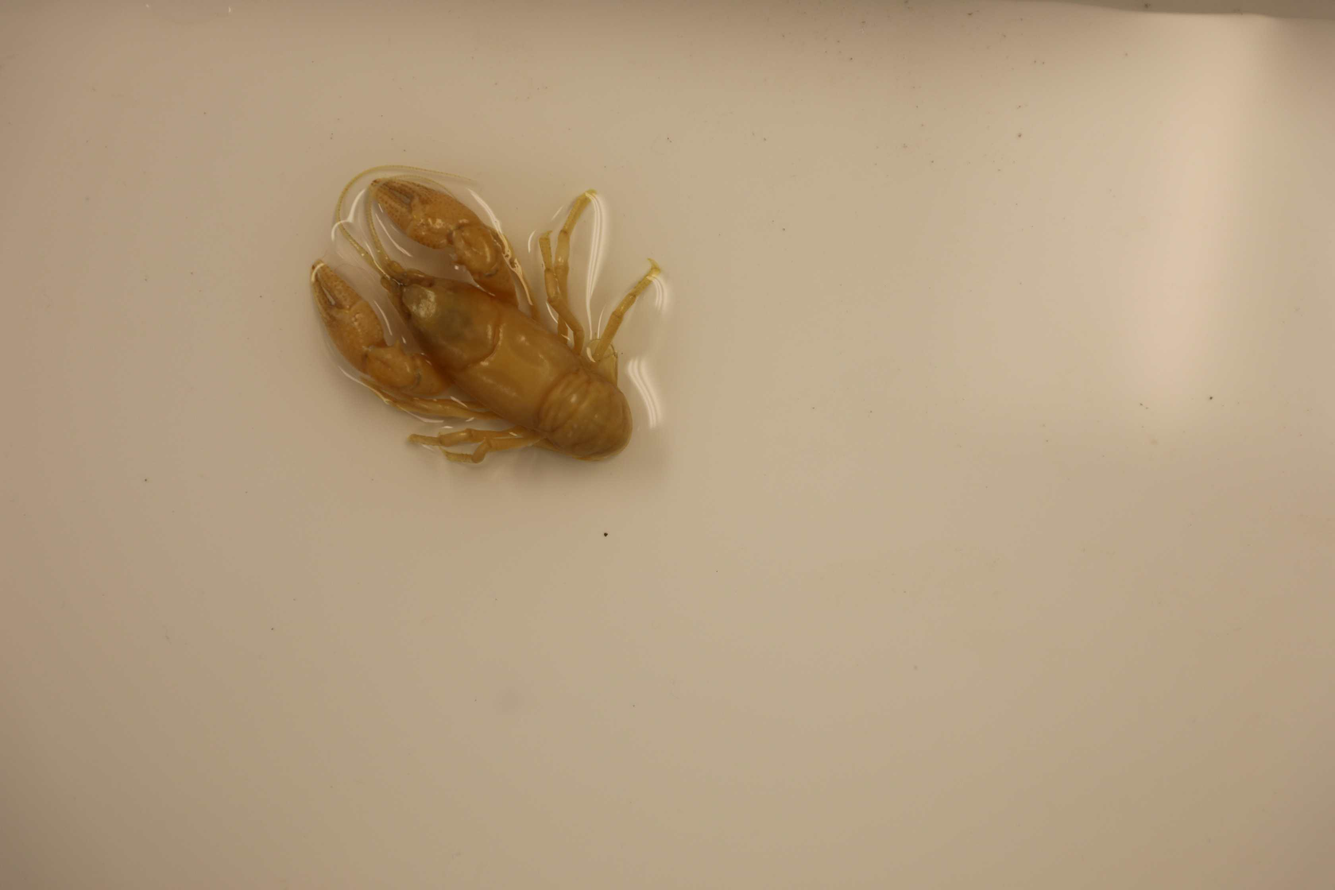Other: (301, 144, 665, 479)
